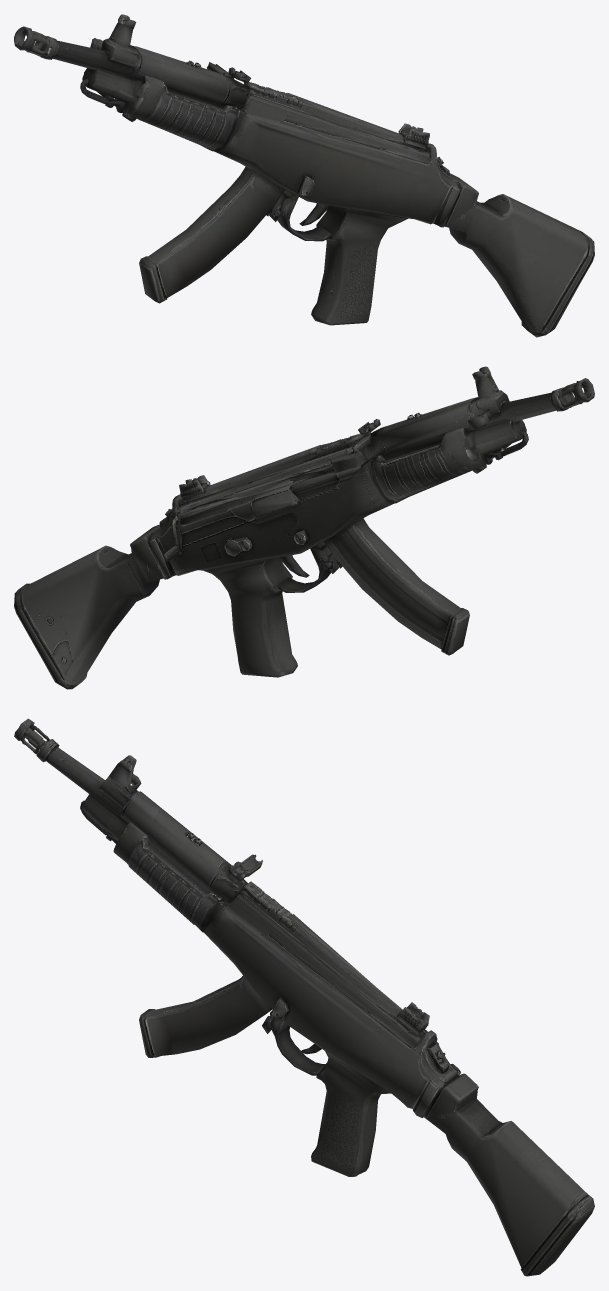
The model's file is rifle.glb.
3 views of the same model, one above another, from view 1: azimuth 30°, elevation 25°; view 2: azimuth 150°, elevation 25°; view 3: azimuth 330°, elevation 25° (orthographic).
Parts seen in each view (by area): view 1: rifle; view 2: rifle; view 3: rifle.
Boxes of the visible parts, x1=… form: rifle: x1=14, y1=14, x2=594, y2=337; rifle: x1=14, y1=366, x2=594, y2=689; rifle: x1=14, y1=718, x2=594, y2=1276.
Size of the model in its own units: 1.04 by 0.75 by 0.1247.
1 material, 1 textured.
